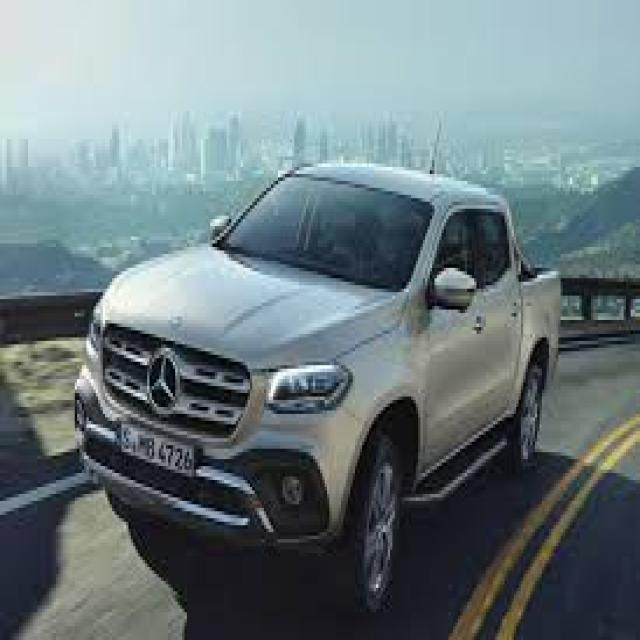Pickup Trucks: (72, 164, 563, 626)
